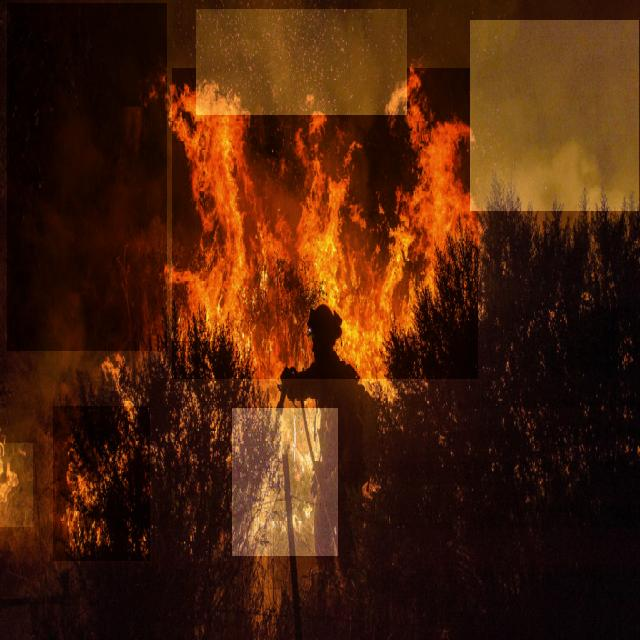Fire: (172, 68, 478, 379), (232, 408, 338, 556), (53, 406, 150, 561), (0, 443, 33, 527)
Smoke: (7, 3, 167, 351), (470, 20, 639, 211), (196, 9, 407, 115)
